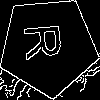R: (23, 21, 71, 61)
